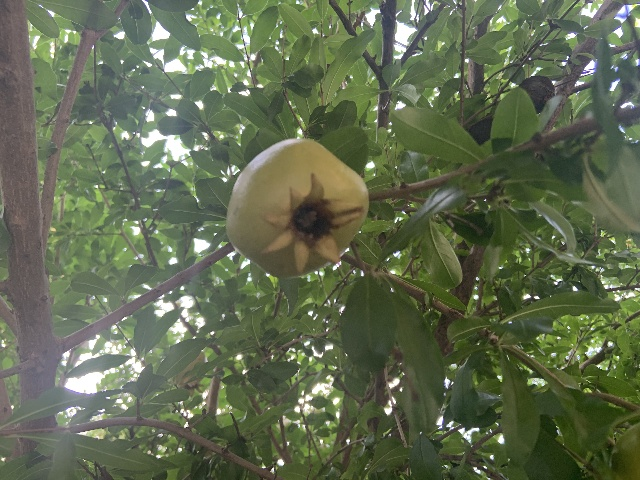mid-growth: (225, 136, 369, 279)
